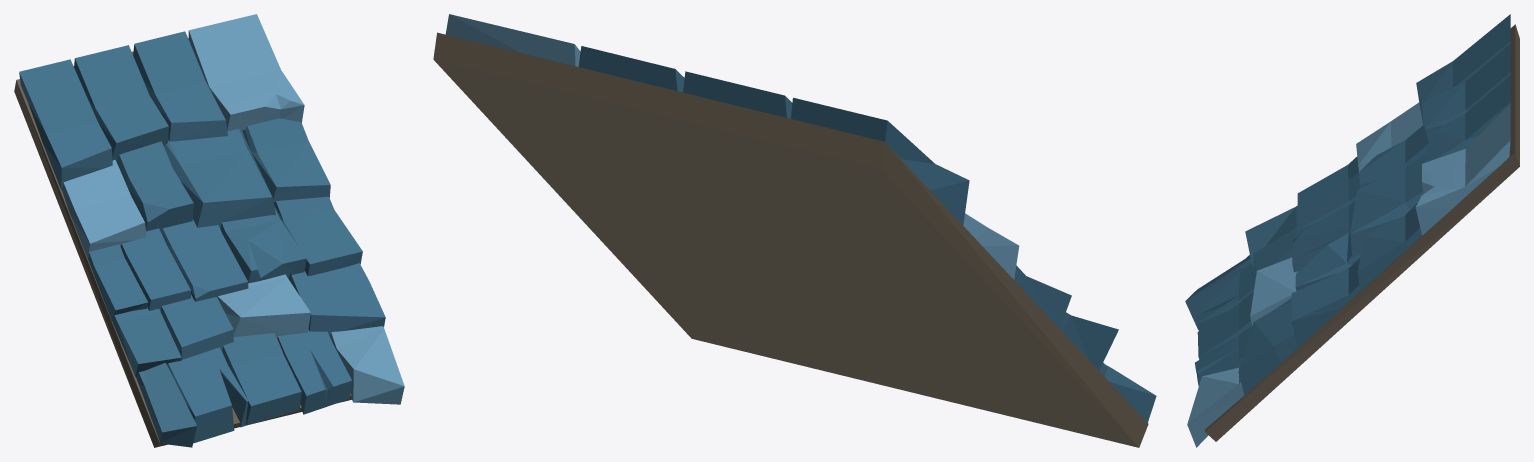
The model's file is ROOF_base_1.fbx.
3 views of the same model, side by side, from view 1: azimuth 30°, elevation 25°; view 2: azimuth 150°, elevation 25°; view 3: azimuth 270°, elevation 25° (orthographic). The views are drawn at different scales.
Parts seen in each view (by area): view 1: ROOF_base_1; view 2: ROOF_base_1; view 3: ROOF_base_1.
Boxes of the visible parts, x1=… form: ROOF_base_1: x1=14, y1=14, x2=404, y2=447; ROOF_base_1: x1=433, y1=14, x2=1156, y2=447; ROOF_base_1: x1=1185, y1=14, x2=1519, y2=447.
Size of the model in its own units: 101 by 112 by 110.
